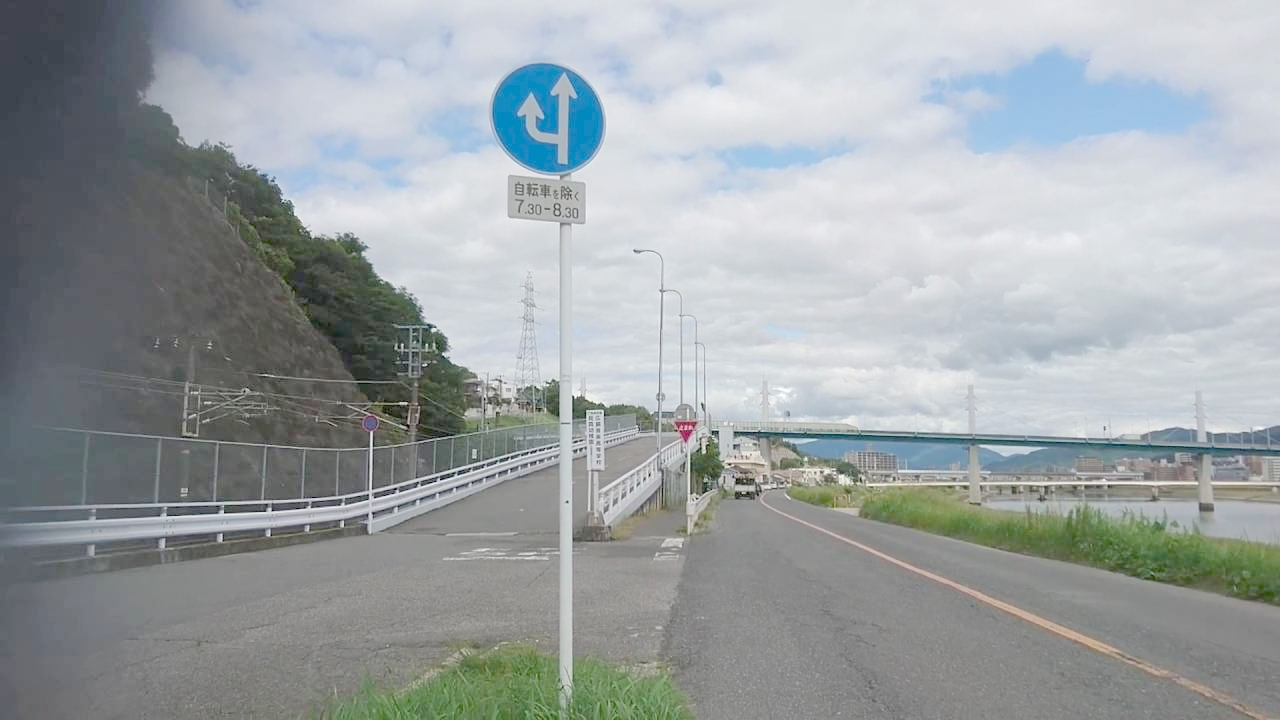Direction_sign: (477, 50, 613, 194)
